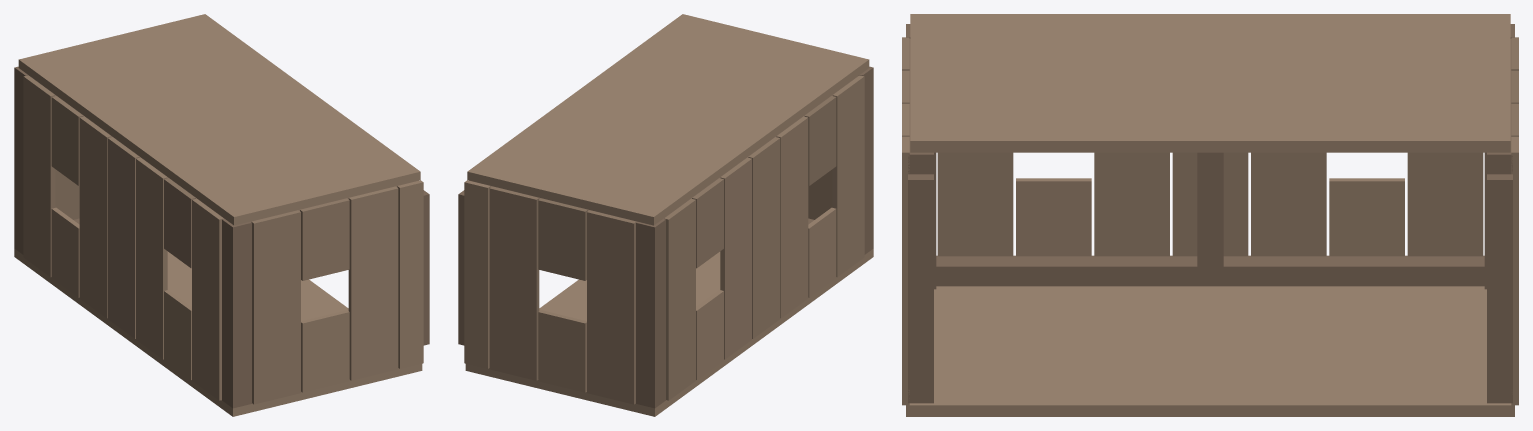
File: Kit_RealTower_CrWdB_Fractured.fbx
The picture shows the model from 3 angles, left to right: view 1: azimuth 30°, elevation 25°; view 2: azimuth 150°, elevation 25°; view 3: azimuth 270°, elevation 25°; orthographic projection. The views are drawn at different scales.
Parts seen in each view (by area): view 1: Kit_RealTower_CrWdB_frag_08, Kit_RealTower_CrWdB_frag_09, Kit_RealTower_CrWdB_frag_02, Kit_RealTower_CrWdB_frag_03, Kit_RealTower_CrWdB_frag_07, Kit_RealTower_CrWdB_frag_06, Kit_RealTower_CrWdB_frag_10, Kit_RealTower_CrWdB_frag_11, Kit_RealTower_CrWdB_frag_01, Kit_RealTower_CrWdB_frag_04, Kit_RealTower_CrWdB_frag_05; view 2: Kit_RealTower_CrWdB_frag_11, Kit_RealTower_CrWdB_frag_08, Kit_RealTower_CrWdB_frag_10, Kit_RealTower_CrWdB_frag_03, Kit_RealTower_CrWdB_frag_06, Kit_RealTower_CrWdB_frag_09, Kit_RealTower_CrWdB_frag_07, Kit_RealTower_CrWdB_frag_05, Kit_RealTower_CrWdB_frag_04, Kit_RealTower_CrWdB_frag_01, Kit_RealTower_CrWdB_frag_02; view 3: Kit_RealTower_CrWdB_frag_03, Kit_RealTower_CrWdB_frag_08, Kit_RealTower_CrWdB_frag_11, Kit_RealTower_CrWdB_frag_02, Kit_RealTower_CrWdB_frag_01, Kit_RealTower_CrWdB_frag_04, Kit_RealTower_CrWdB_frag_07, Kit_RealTower_CrWdB_frag_05, Kit_RealTower_CrWdB_frag_06, Kit_RealTower_CrWdB_frag_09, Kit_RealTower_CrWdB_frag_10.
Part boxes in pixels (x1,y1,x2,y2): Kit_RealTower_CrWdB_frag_08: (18, 36, 347, 185); Kit_RealTower_CrWdB_frag_09: (192, 198, 300, 408); Kit_RealTower_CrWdB_frag_02: (301, 180, 429, 393); Kit_RealTower_CrWdB_frag_03: (79, 116, 347, 362); Kit_RealTower_CrWdB_frag_07: (251, 118, 420, 280); Kit_RealTower_CrWdB_frag_06: (160, 140, 328, 268); Kit_RealTower_CrWdB_frag_10: (14, 66, 79, 277); Kit_RealTower_CrWdB_frag_11: (114, 14, 275, 87); Kit_RealTower_CrWdB_frag_01: (159, 290, 329, 416); Kit_RealTower_CrWdB_frag_04: (14, 207, 181, 309); Kit_RealTower_CrWdB_frag_05: (74, 218, 191, 277); Kit_RealTower_CrWdB_frag_11: (458, 120, 636, 380); Kit_RealTower_CrWdB_frag_08: (538, 67, 796, 268); Kit_RealTower_CrWdB_frag_10: (587, 198, 695, 408); Kit_RealTower_CrWdB_frag_03: (539, 116, 808, 363); Kit_RealTower_CrWdB_frag_06: (702, 36, 869, 185); Kit_RealTower_CrWdB_frag_09: (808, 66, 873, 277); Kit_RealTower_CrWdB_frag_07: (610, 14, 773, 89); Kit_RealTower_CrWdB_frag_05: (465, 310, 586, 393); Kit_RealTower_CrWdB_frag_04: (558, 290, 726, 416); Kit_RealTower_CrWdB_frag_01: (704, 207, 873, 310); Kit_RealTower_CrWdB_frag_02: (696, 218, 813, 278); Kit_RealTower_CrWdB_frag_03: (1094, 152, 1326, 416); Kit_RealTower_CrWdB_frag_08: (1113, 14, 1510, 152); Kit_RealTower_CrWdB_frag_11: (1313, 39, 1518, 405); Kit_RealTower_CrWdB_frag_02: (902, 103, 1111, 416); Kit_RealTower_CrWdB_frag_01: (934, 178, 1121, 341); Kit_RealTower_CrWdB_frag_04: (1304, 178, 1486, 341); Kit_RealTower_CrWdB_frag_07: (902, 39, 1113, 174); Kit_RealTower_CrWdB_frag_05: (1315, 342, 1514, 416); Kit_RealTower_CrWdB_frag_06: (910, 14, 1113, 78); Kit_RealTower_CrWdB_frag_09: (902, 24, 1013, 289); Kit_RealTower_CrWdB_frag_10: (1407, 24, 1518, 289).
Size of what is drawn, in the model's own units: 1.48 by 1.4 by 2.84.
